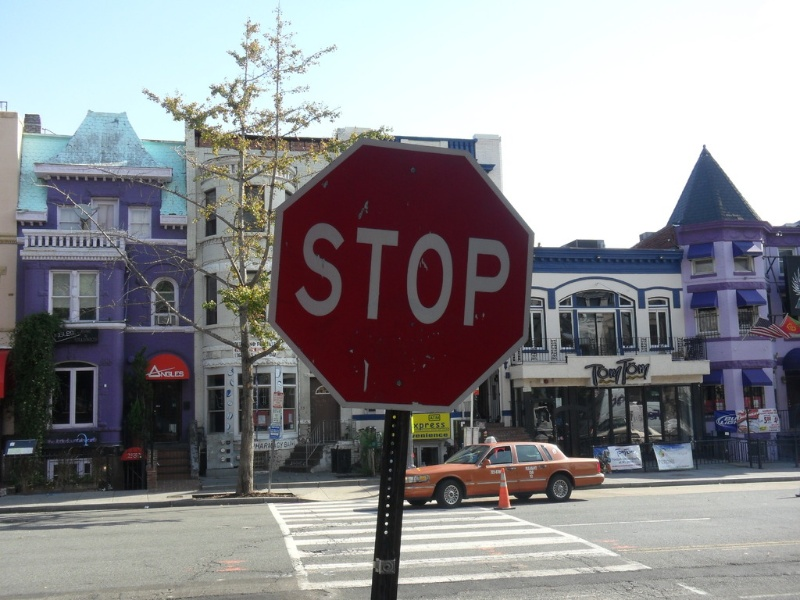stop: (273, 124, 528, 418)
